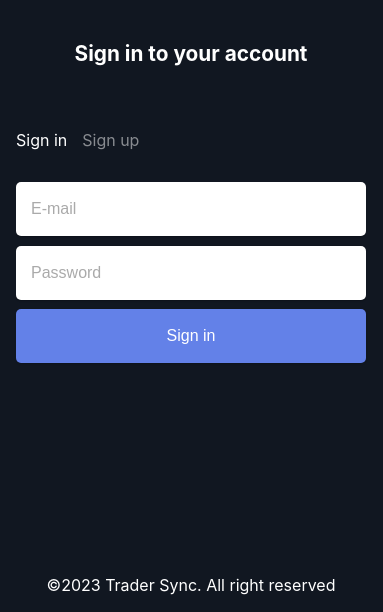
Test case: on registration renders sign in form when click sign in button
This screenshot has width=383, height=612.
What coordinates should you click on to do the following:
click the list item with test id "sign-up-label"
I would click on:
 (111, 140)
Its box is [82,128,139,152].
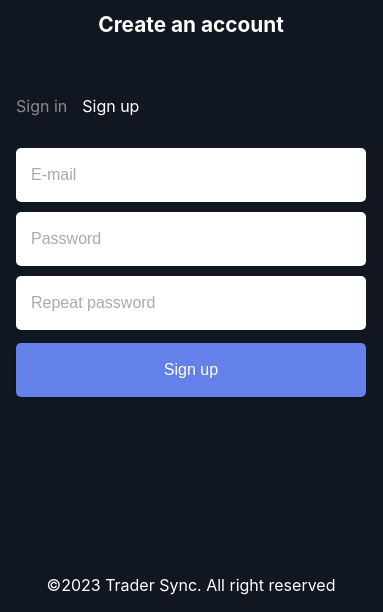
What coordinates should you click on to do the following:
click the list item with test id "sign-in-label"
I would click on:
 (42, 106)
Its box is [16,94,67,118].
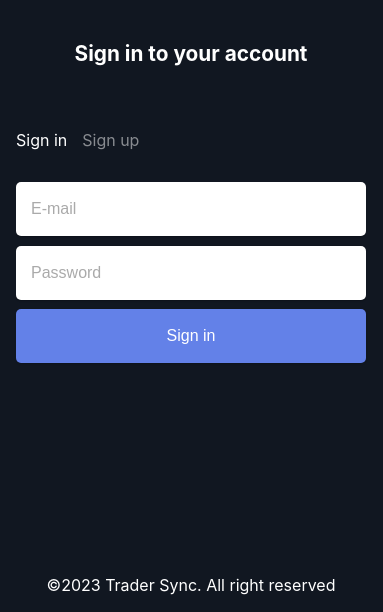
Check: the button with test id "sign-in-btn" reads "Sign in", box [16,309,366,363]
